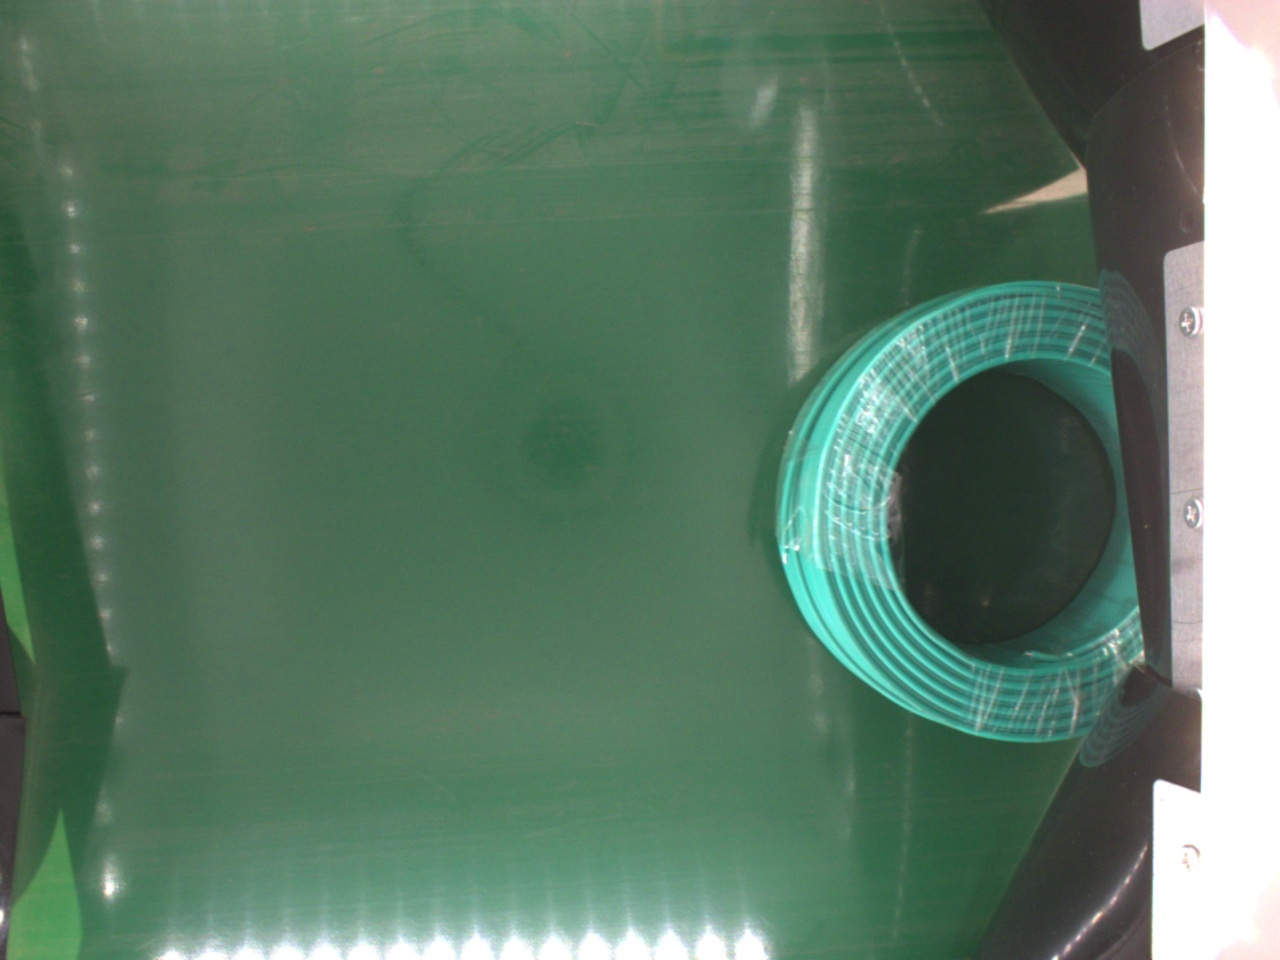green: (772, 281, 1148, 749)
